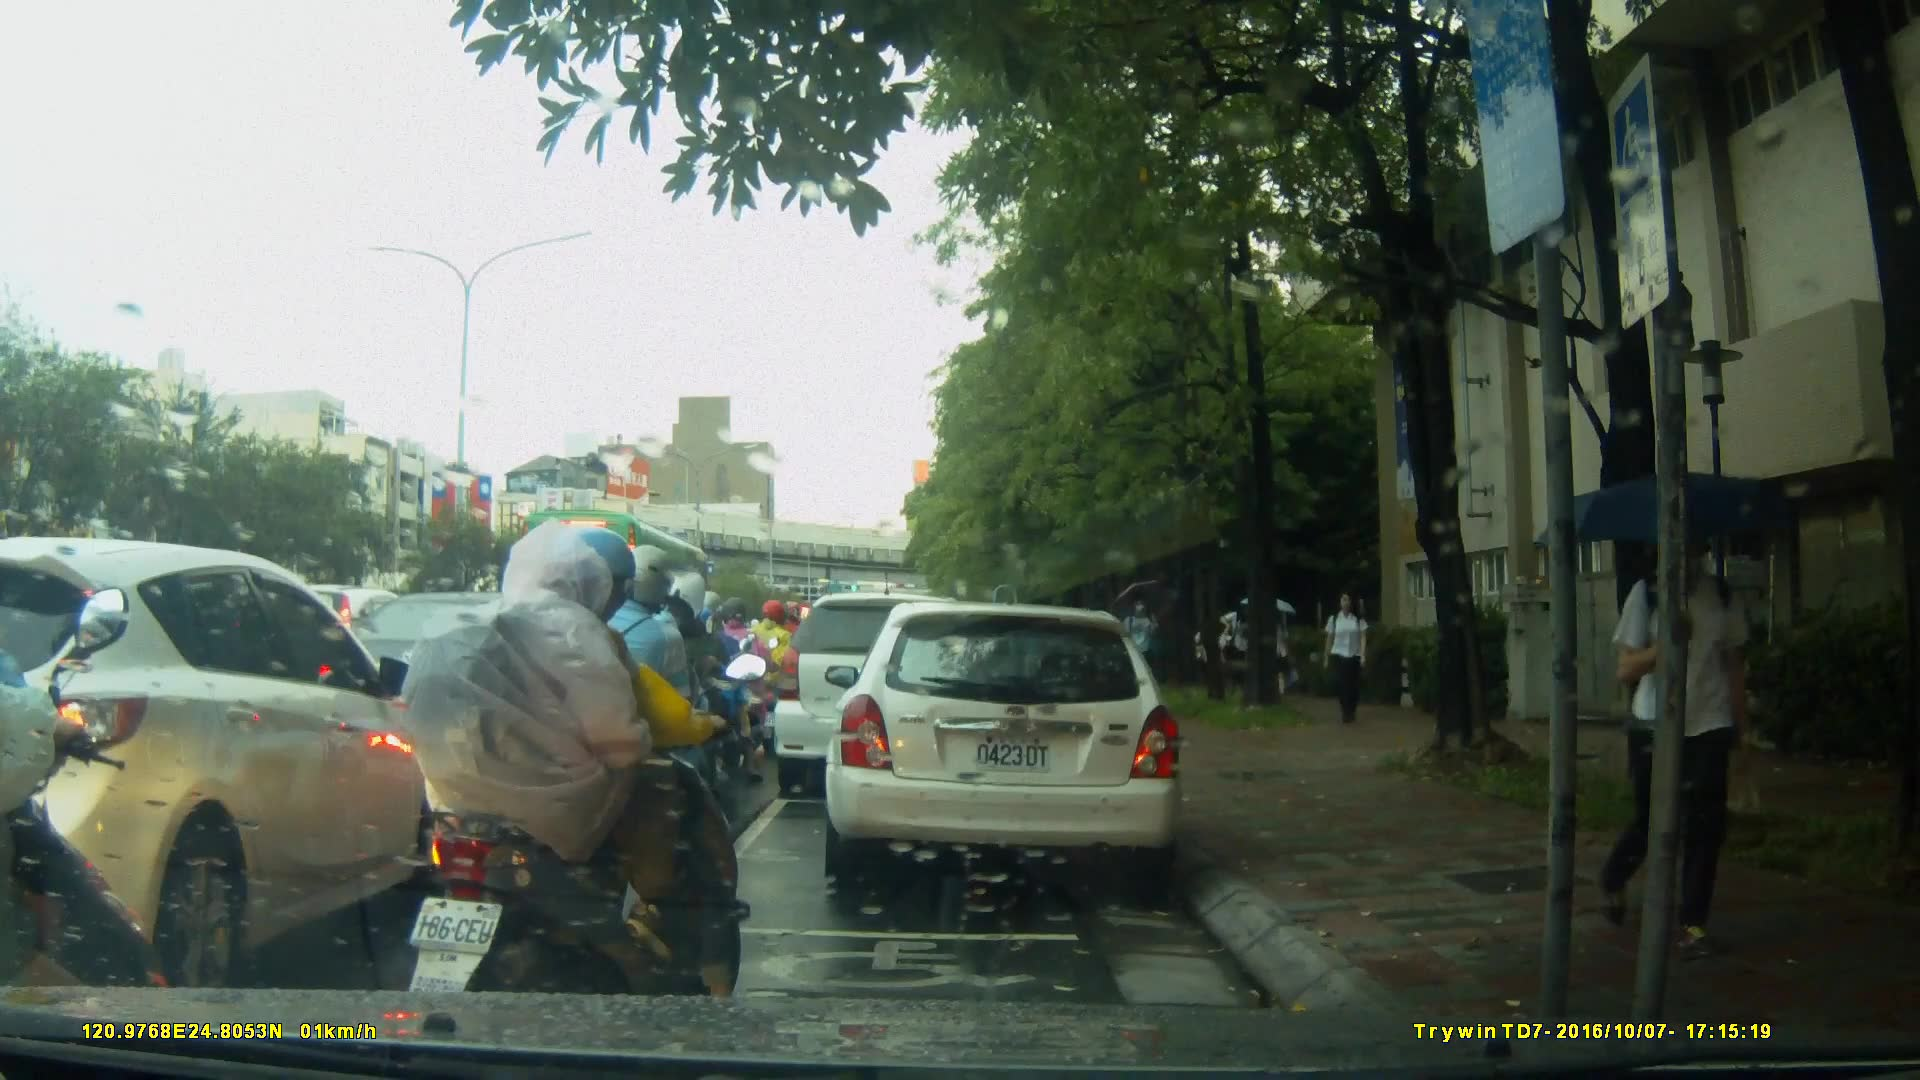pedestrian: (1612, 496, 1765, 962), (1316, 589, 1374, 727), (1123, 593, 1162, 707)
rider: (393, 514, 753, 1073), (1, 586, 178, 1080), (541, 546, 732, 887), (608, 570, 744, 864), (705, 601, 779, 765), (751, 603, 809, 744)
vehicle: (1, 536, 442, 988), (822, 604, 1186, 881), (774, 595, 995, 802), (532, 512, 733, 667)
